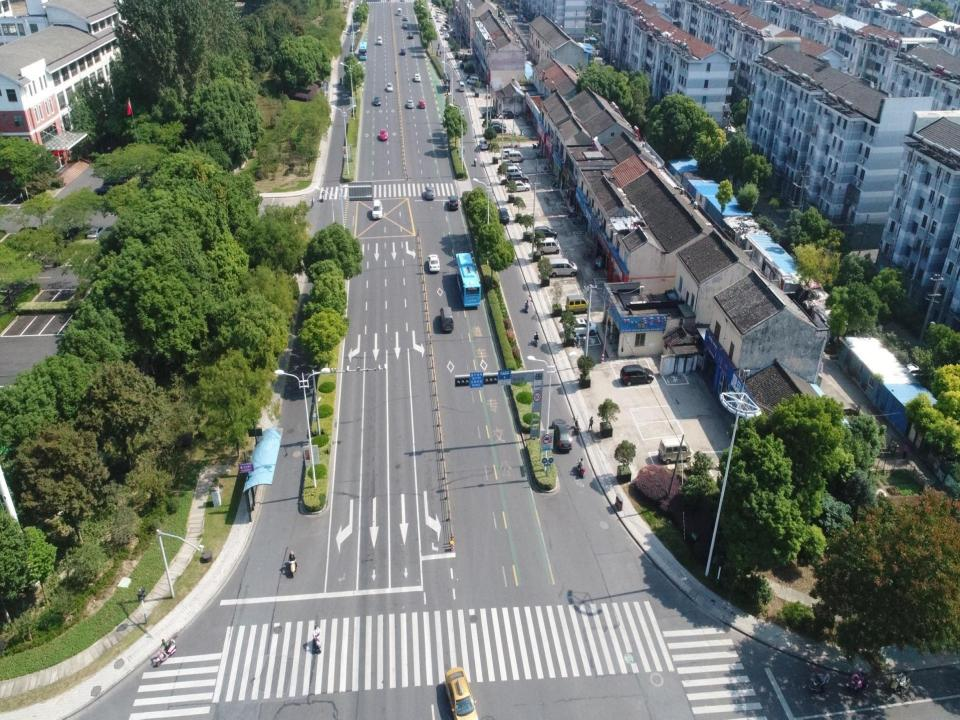bus: (452, 252, 480, 307), (359, 41, 368, 61)
car: (444, 666, 480, 720), (620, 363, 653, 386), (553, 418, 573, 450), (439, 306, 456, 335), (570, 318, 598, 335), (533, 226, 557, 240), (93, 184, 115, 199), (86, 225, 107, 238), (102, 176, 128, 186), (508, 180, 531, 191), (428, 253, 440, 274), (62, 226, 79, 240), (500, 146, 518, 159), (372, 199, 383, 220), (15, 226, 38, 236), (498, 207, 510, 226), (447, 194, 460, 211), (424, 184, 436, 201), (489, 120, 506, 130), (488, 125, 505, 135), (482, 109, 499, 119), (503, 109, 519, 119), (479, 138, 489, 150), (379, 128, 388, 140), (373, 95, 382, 105), (588, 415, 593, 433), (414, 71, 421, 83), (386, 81, 394, 91), (418, 99, 426, 109), (407, 100, 414, 110), (400, 47, 407, 55), (408, 31, 414, 40), (402, 22, 408, 29), (444, 33, 450, 40), (403, 14, 409, 20), (440, 25, 446, 31), (436, 16, 442, 22), (435, 13, 441, 19), (436, 9, 440, 16), (428, 14, 432, 19)
van: (658, 437, 692, 463), (548, 257, 578, 278), (565, 295, 589, 315), (536, 237, 559, 255), (504, 165, 522, 178), (508, 151, 524, 164), (467, 74, 479, 86), (377, 36, 383, 46), (459, 80, 464, 92), (397, 7, 402, 16)
